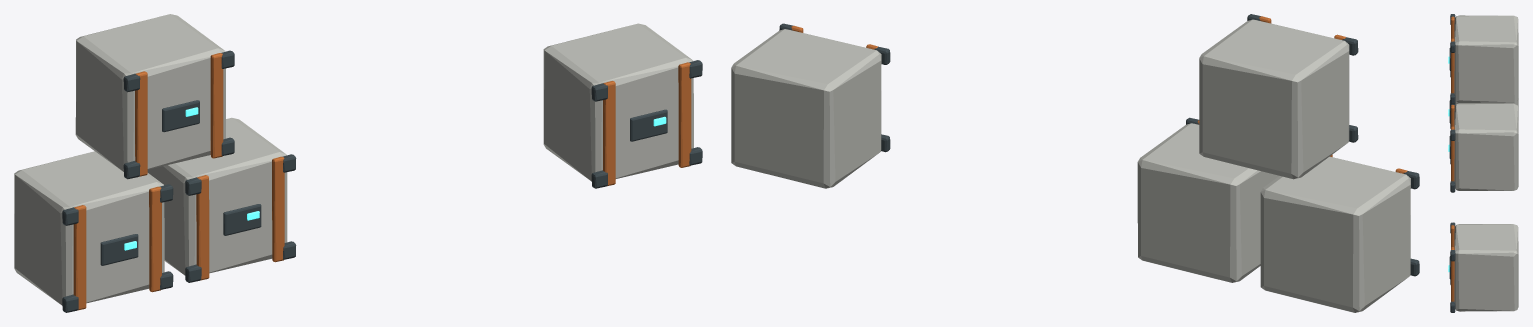
Rendered from storage-equipment.glb.
3 views of the same model, side by side, from view 1: azimuth 30°, elevation 25°; view 2: azimuth 150°, elevation 25°; view 3: azimuth 270°, elevation 25° (orthographic). The views are drawn at different scales.
Parts seen in each view (by area): view 1: storage-equipment; view 2: storage-equipment; view 3: storage-equipment.
Part boxes in pixels (left/top/right/bottom): storage-equipment: left=14, top=14, right=702, bottom=312; storage-equipment: left=731, top=14, right=1419, bottom=312; storage-equipment: left=1448, top=14, right=1518, bottom=312.
Size of the model in its own units: 6.75 by 2.3 by 1.09.
